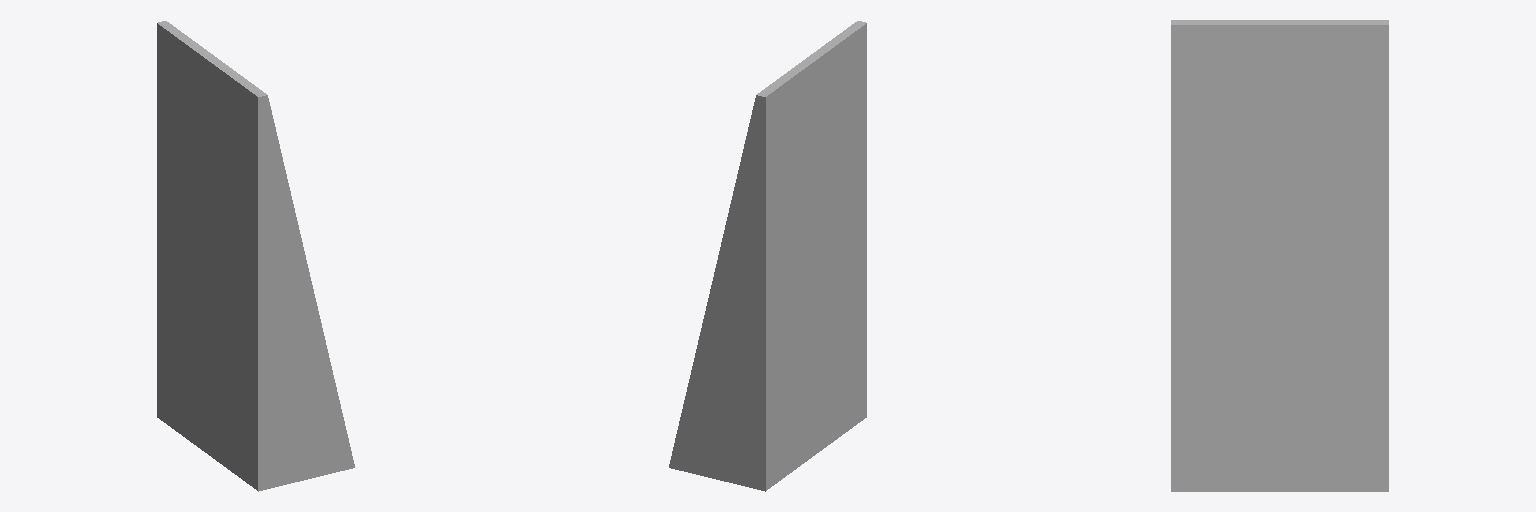
URDF robot description (root):
<robot name="root">
  <link name="link_triangular wedge_convex_piece_0">
    <inertial>
      <origin xyz="0 0 0" rpy="0 0 0"/>
      <mass value="2.11E-01"/>
      <inertia ixx="4.52E-04" ixy="-0.00E+00" ixz="4.09E-05" iyy="3.72E-04" iyz="-0.00E+00" izz="1.20E-04"/>
    </inertial>
    <visual>
      <origin xyz="0 0 0" rpy="0 0 0"/>
      <geometry>
        <mesh filename="triangular wedge_convex_piece_0.obj" scale="1.0000E+00 1.0000E+00 1.0000E+00"/>
      </geometry>
      <material name="">
        <color rgba="7.50E-01 7.50E-01 7.50E-01 1"/>
      </material>
    </visual>
    <collision>
      <origin xyz="0 0 0" rpy="0 0 0"/>
      <geometry>
        <mesh filename="triangular wedge_convex_piece_0.obj" scale="1.0000E+00 1.0000E+00 1.0000E+00"/>
      </geometry>
    </collision>
  </link>
</robot>

--- Render facts (derived) ---
3 views of the same robot in one strip: view 1: azimuth 30°, elevation 25°; view 2: azimuth 150°, elevation 25°; view 3: azimuth 270°, elevation 25° (orthographic).
Model root with 1 links and 0 joints (none), rooted at link_triangular wedge_convex_piece_0, posed all joints at 0.
Visible links, largest first — view 1: link_triangular wedge_convex_piece_0; view 2: link_triangular wedge_convex_piece_0; view 3: link_triangular wedge_convex_piece_0.
Boxes of the visible links, <box> form: link_triangular wedge_convex_piece_0: <box>157,21,354,491</box>; link_triangular wedge_convex_piece_0: <box>669,21,866,491</box>; link_triangular wedge_convex_piece_0: <box>1171,20,1388,491</box>.
Bounding box of the posed robot: 0.0414 × 0.0752 × 0.1607 m (x, y, z).
1 mesh visuals loaded from 1 distinct referenced files (1 OBJ).
